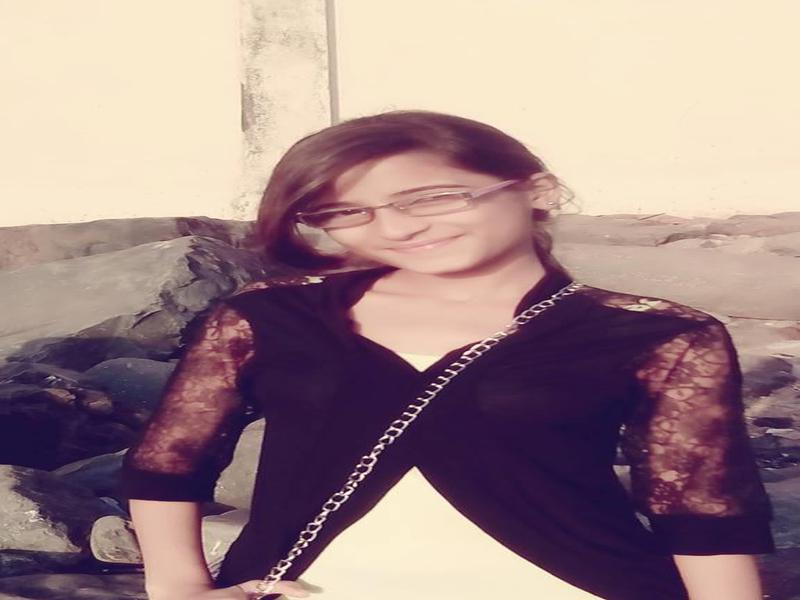without_mask: (310, 161, 514, 272)
